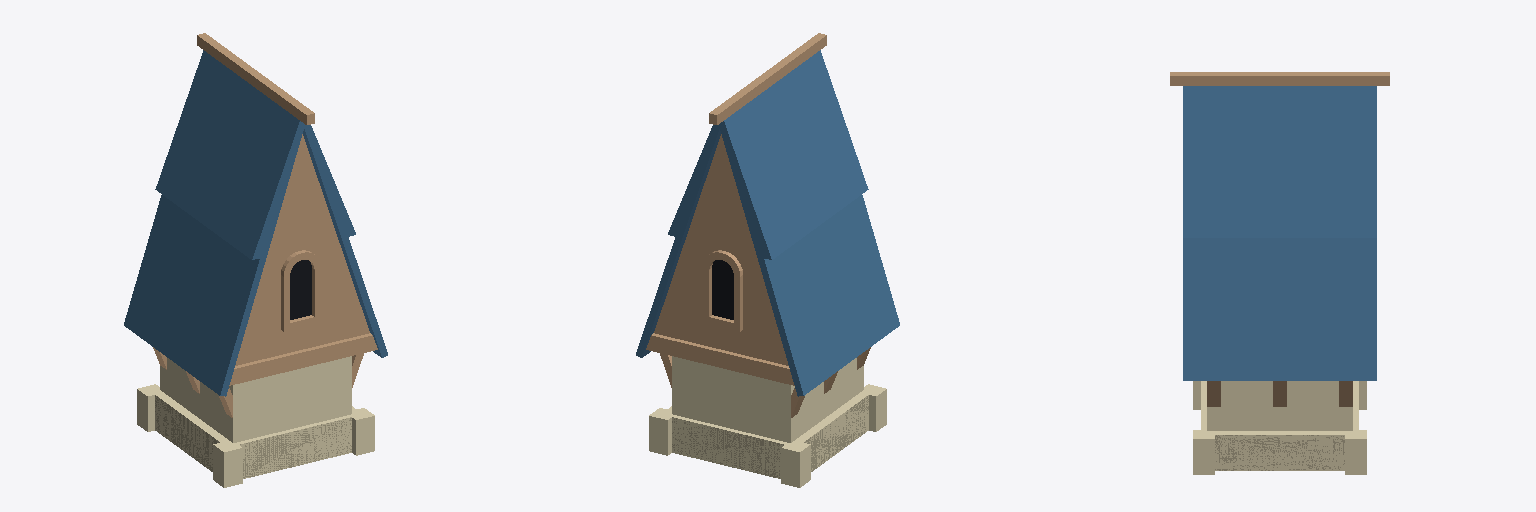
The model's file is towerSlantRoof_exclusive.obj.
3 views of the same model, side by side, from view 1: azimuth 30°, elevation 25°; view 2: azimuth 150°, elevation 25°; view 3: azimuth 270°, elevation 25° (orthographic).
Parts seen in each view (by area): view 1: towerSlantRoof_exclusive; view 2: towerSlantRoof_exclusive; view 3: towerSlantRoof_exclusive.
Part boxes in pixels (x1,y1,x2,y2): towerSlantRoof_exclusive: (124,33,387,487); towerSlantRoof_exclusive: (636,33,899,487); towerSlantRoof_exclusive: (1170,72,1389,474).
Size of the model in its own units: 10.37 by 21.4 by 11.7.